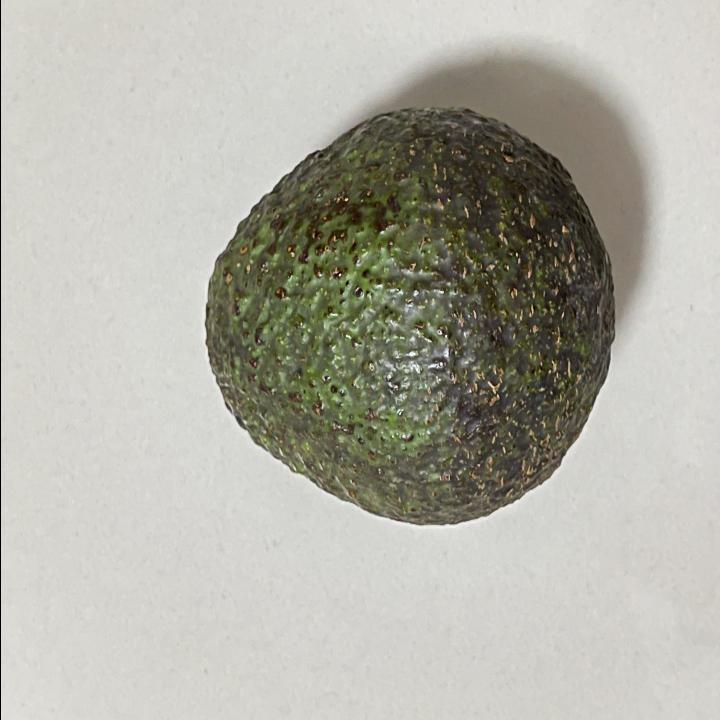Level1: (187, 98, 628, 544)
